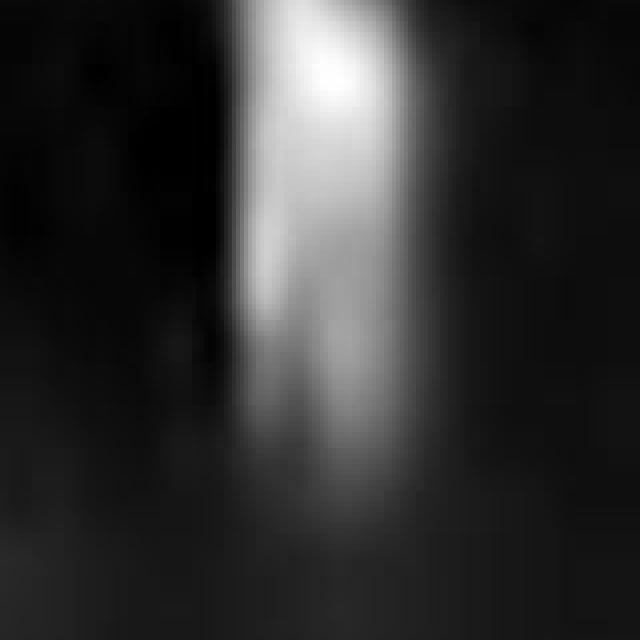person: (193, 1, 429, 508)
